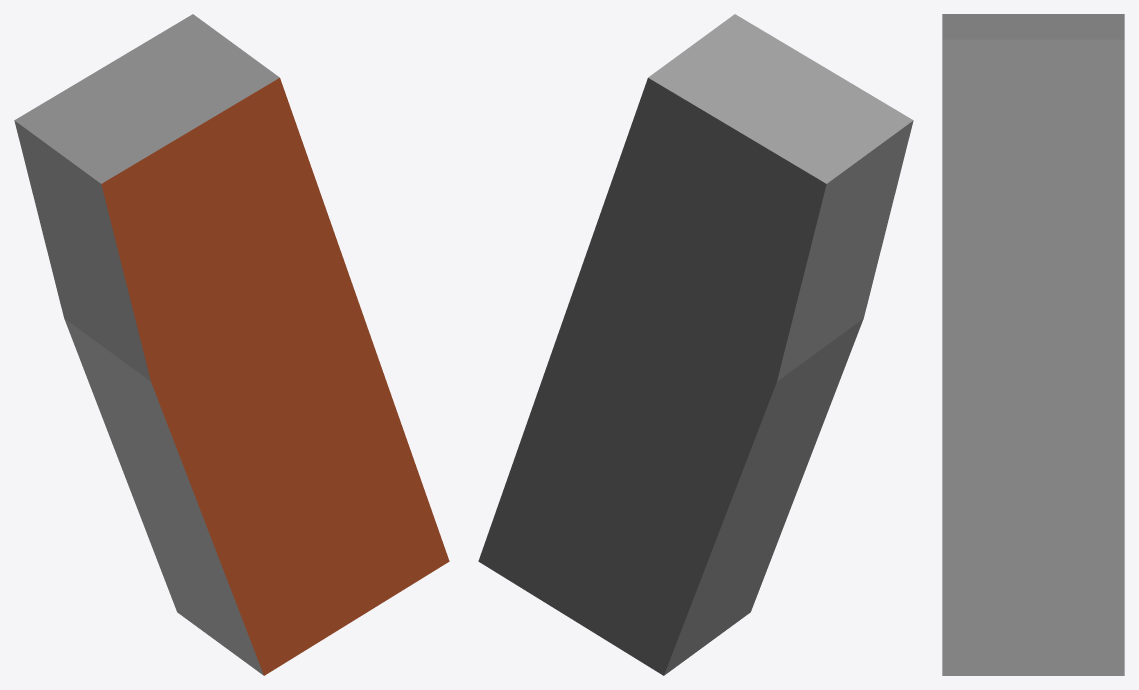
Rendered from construction_6938_assumed_A_Casa_h6m.obj.
3 renders of one model, left to right at view 1: azimuth 30°, elevation 25°; view 2: azimuth 150°, elevation 25°; view 3: azimuth 270°, elevation 25°, orthographic. The views are drawn at different scales.
Visible parts, largest first — view 1: construction_6938_assumed_A_Casa; view 2: construction_6938_assumed_A_Casa; view 3: construction_6938_assumed_A_Casa.
Boxes of the visible parts, x1=… form: construction_6938_assumed_A_Casa: x1=14, y1=14, x2=449, y2=675; construction_6938_assumed_A_Casa: x1=478, y1=14, x2=913, y2=675; construction_6938_assumed_A_Casa: x1=942, y1=14, x2=1124, y2=675.
Bounding box in the file's own units: 13.88 × 22.63 × 6.
